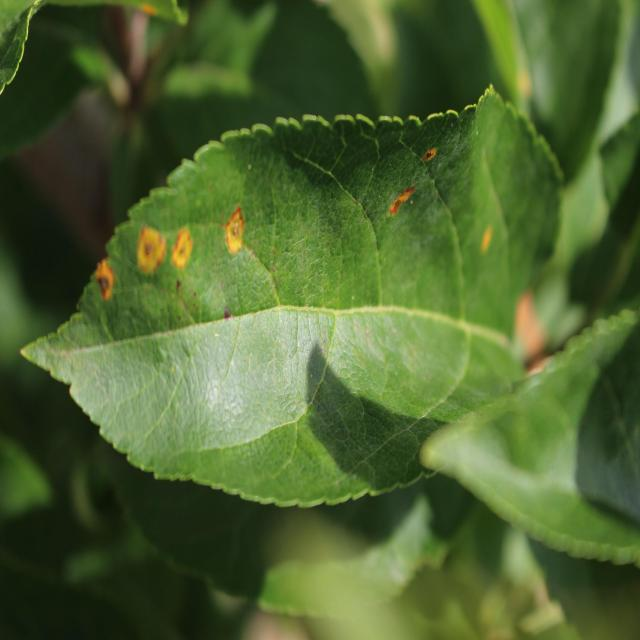Rust: (132, 213, 168, 289), (220, 196, 257, 265), (382, 168, 419, 235), (168, 213, 200, 278), (87, 244, 121, 304), (474, 218, 500, 274), (412, 140, 450, 175)
